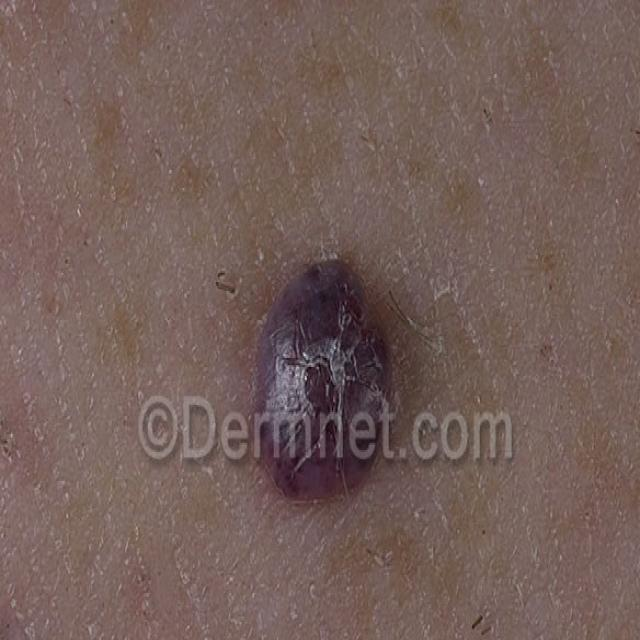Vascular Tumors: (250, 254, 399, 516)
